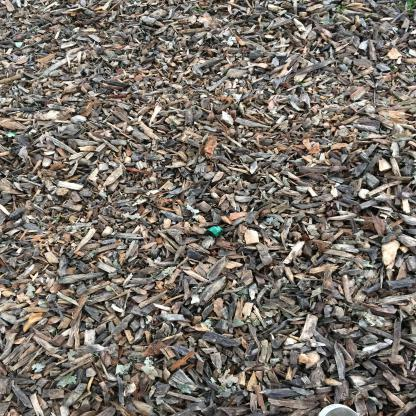plastik: (209, 227, 225, 239)
